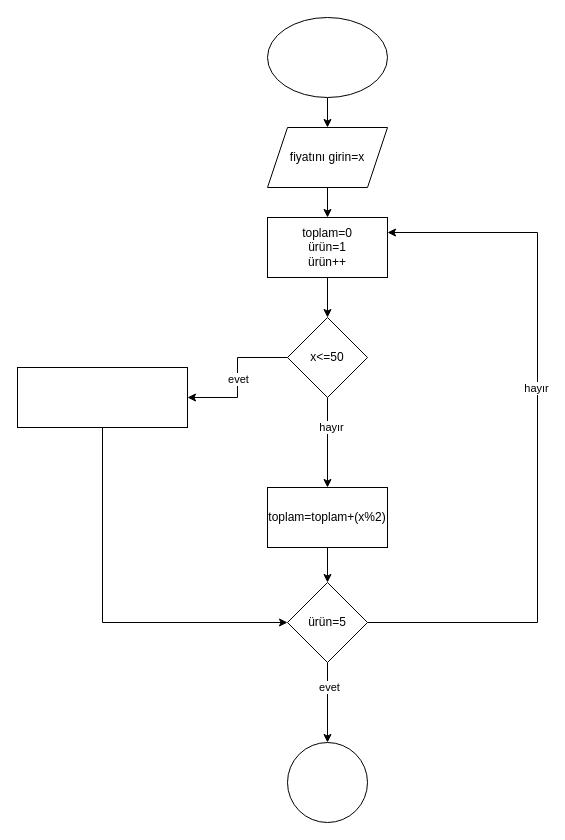
Some shapes in this 565 by 840 pixel diagram are drawn without their labels. The shapes that lost their labels are listed below. From the top down, each one's centre as x and y in pixels, then its label:
At (327,57): "başla".
At (102,397): "toplam=toplam+(x%3)".
At (327,782): "print(toplam komisyon)".
